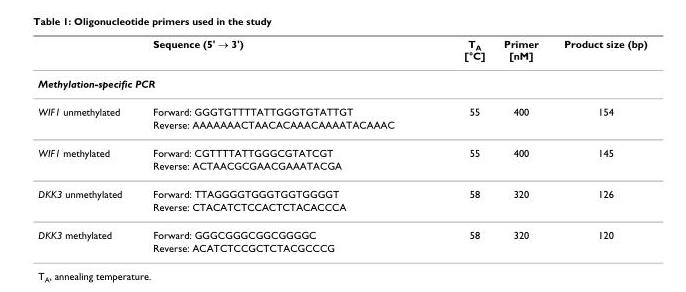table: (37, 36, 646, 253)
table column: (136, 36, 428, 253), (37, 36, 136, 253), (550, 36, 646, 253), (428, 36, 493, 253), (493, 36, 550, 253)
table column header: (37, 36, 646, 69)
table projected row header: (37, 69, 646, 97)
table row: (37, 36, 646, 69), (37, 69, 646, 97), (37, 117, 646, 138), (37, 158, 646, 179), (37, 179, 646, 200), (37, 220, 646, 241), (37, 97, 646, 117), (37, 138, 646, 158), (37, 200, 646, 220), (37, 241, 646, 253)
table spanning cell: (37, 97, 136, 138), (37, 138, 136, 179), (37, 179, 136, 220), (37, 220, 136, 253)
